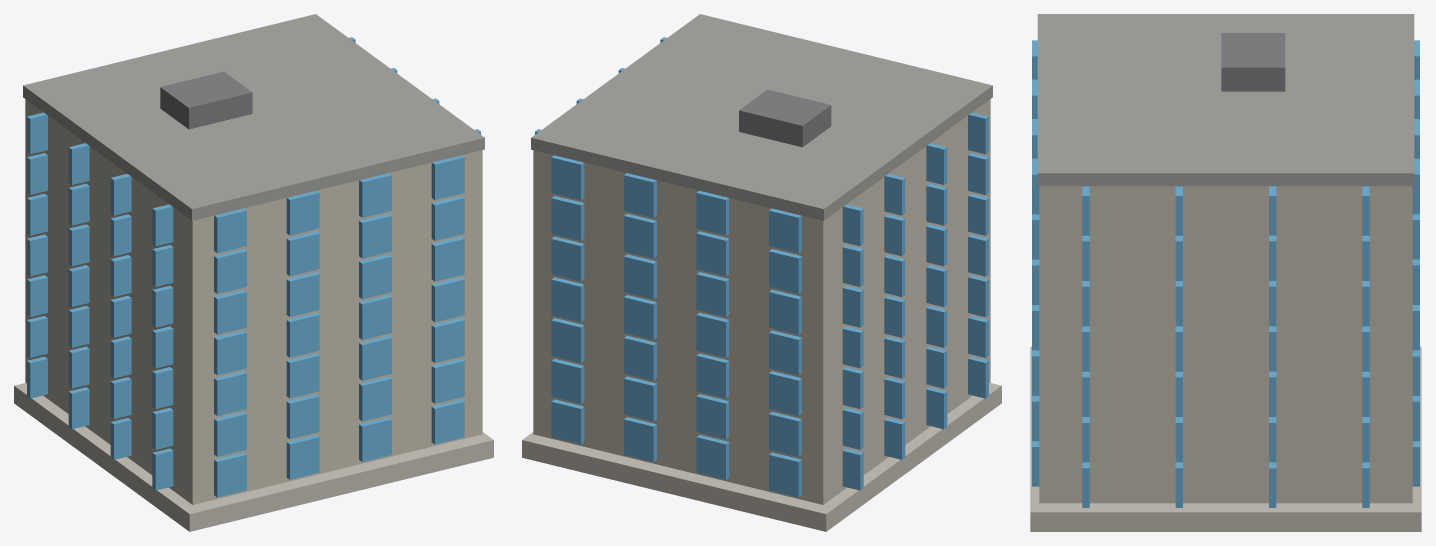
The model's file is res_predio_6.glb.
3 views of the same model, side by side, from view 1: azimuth 30°, elevation 25°; view 2: azimuth 150°, elevation 25°; view 3: azimuth 270°, elevation 25° (orthographic). The views are drawn at different scales.
Visible parts, largest first — view 1: res_predio_6; view 2: res_predio_6; view 3: res_predio_6.
Boxes of the visible parts, left/top/right/bottom form: res_predio_6: left=14, top=14, right=493, bottom=531; res_predio_6: left=522, top=14, right=1001, bottom=531; res_predio_6: left=1030, top=14, right=1421, bottom=531.
Size of the model in its own units: 0.46 by 0.46 by 0.43.
